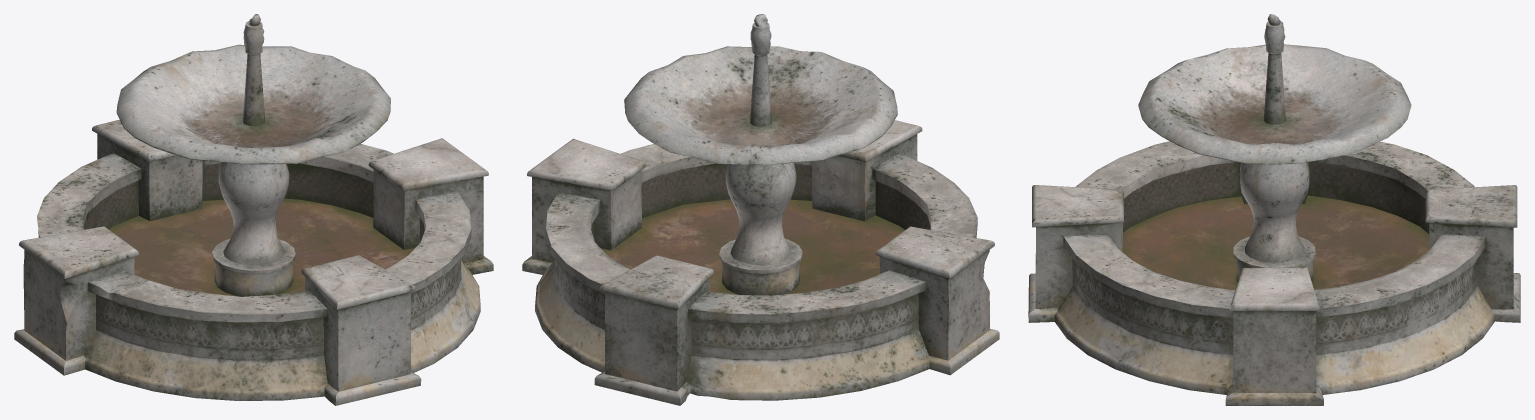
File: old_concrete_fountain_02baeb64.glb
3 renders of one model, left to right at view 1: azimuth 30°, elevation 25°; view 2: azimuth 150°, elevation 25°; view 3: azimuth 270°, elevation 25°, orthographic.
Parts seen in each view (by area): view 1: old_concrete_fountain_02baeb64; view 2: old_concrete_fountain_02baeb64; view 3: old_concrete_fountain_02baeb64.
Boxes of the visible parts, x1,y1,x2,y2 form: old_concrete_fountain_02baeb64: [14, 14, 493, 405]; old_concrete_fountain_02baeb64: [522, 14, 999, 405]; old_concrete_fountain_02baeb64: [1028, 14, 1520, 405].
Size of the model in its own units: 3.28 by 2.11 by 3.28.
1 material, 1 textured.
